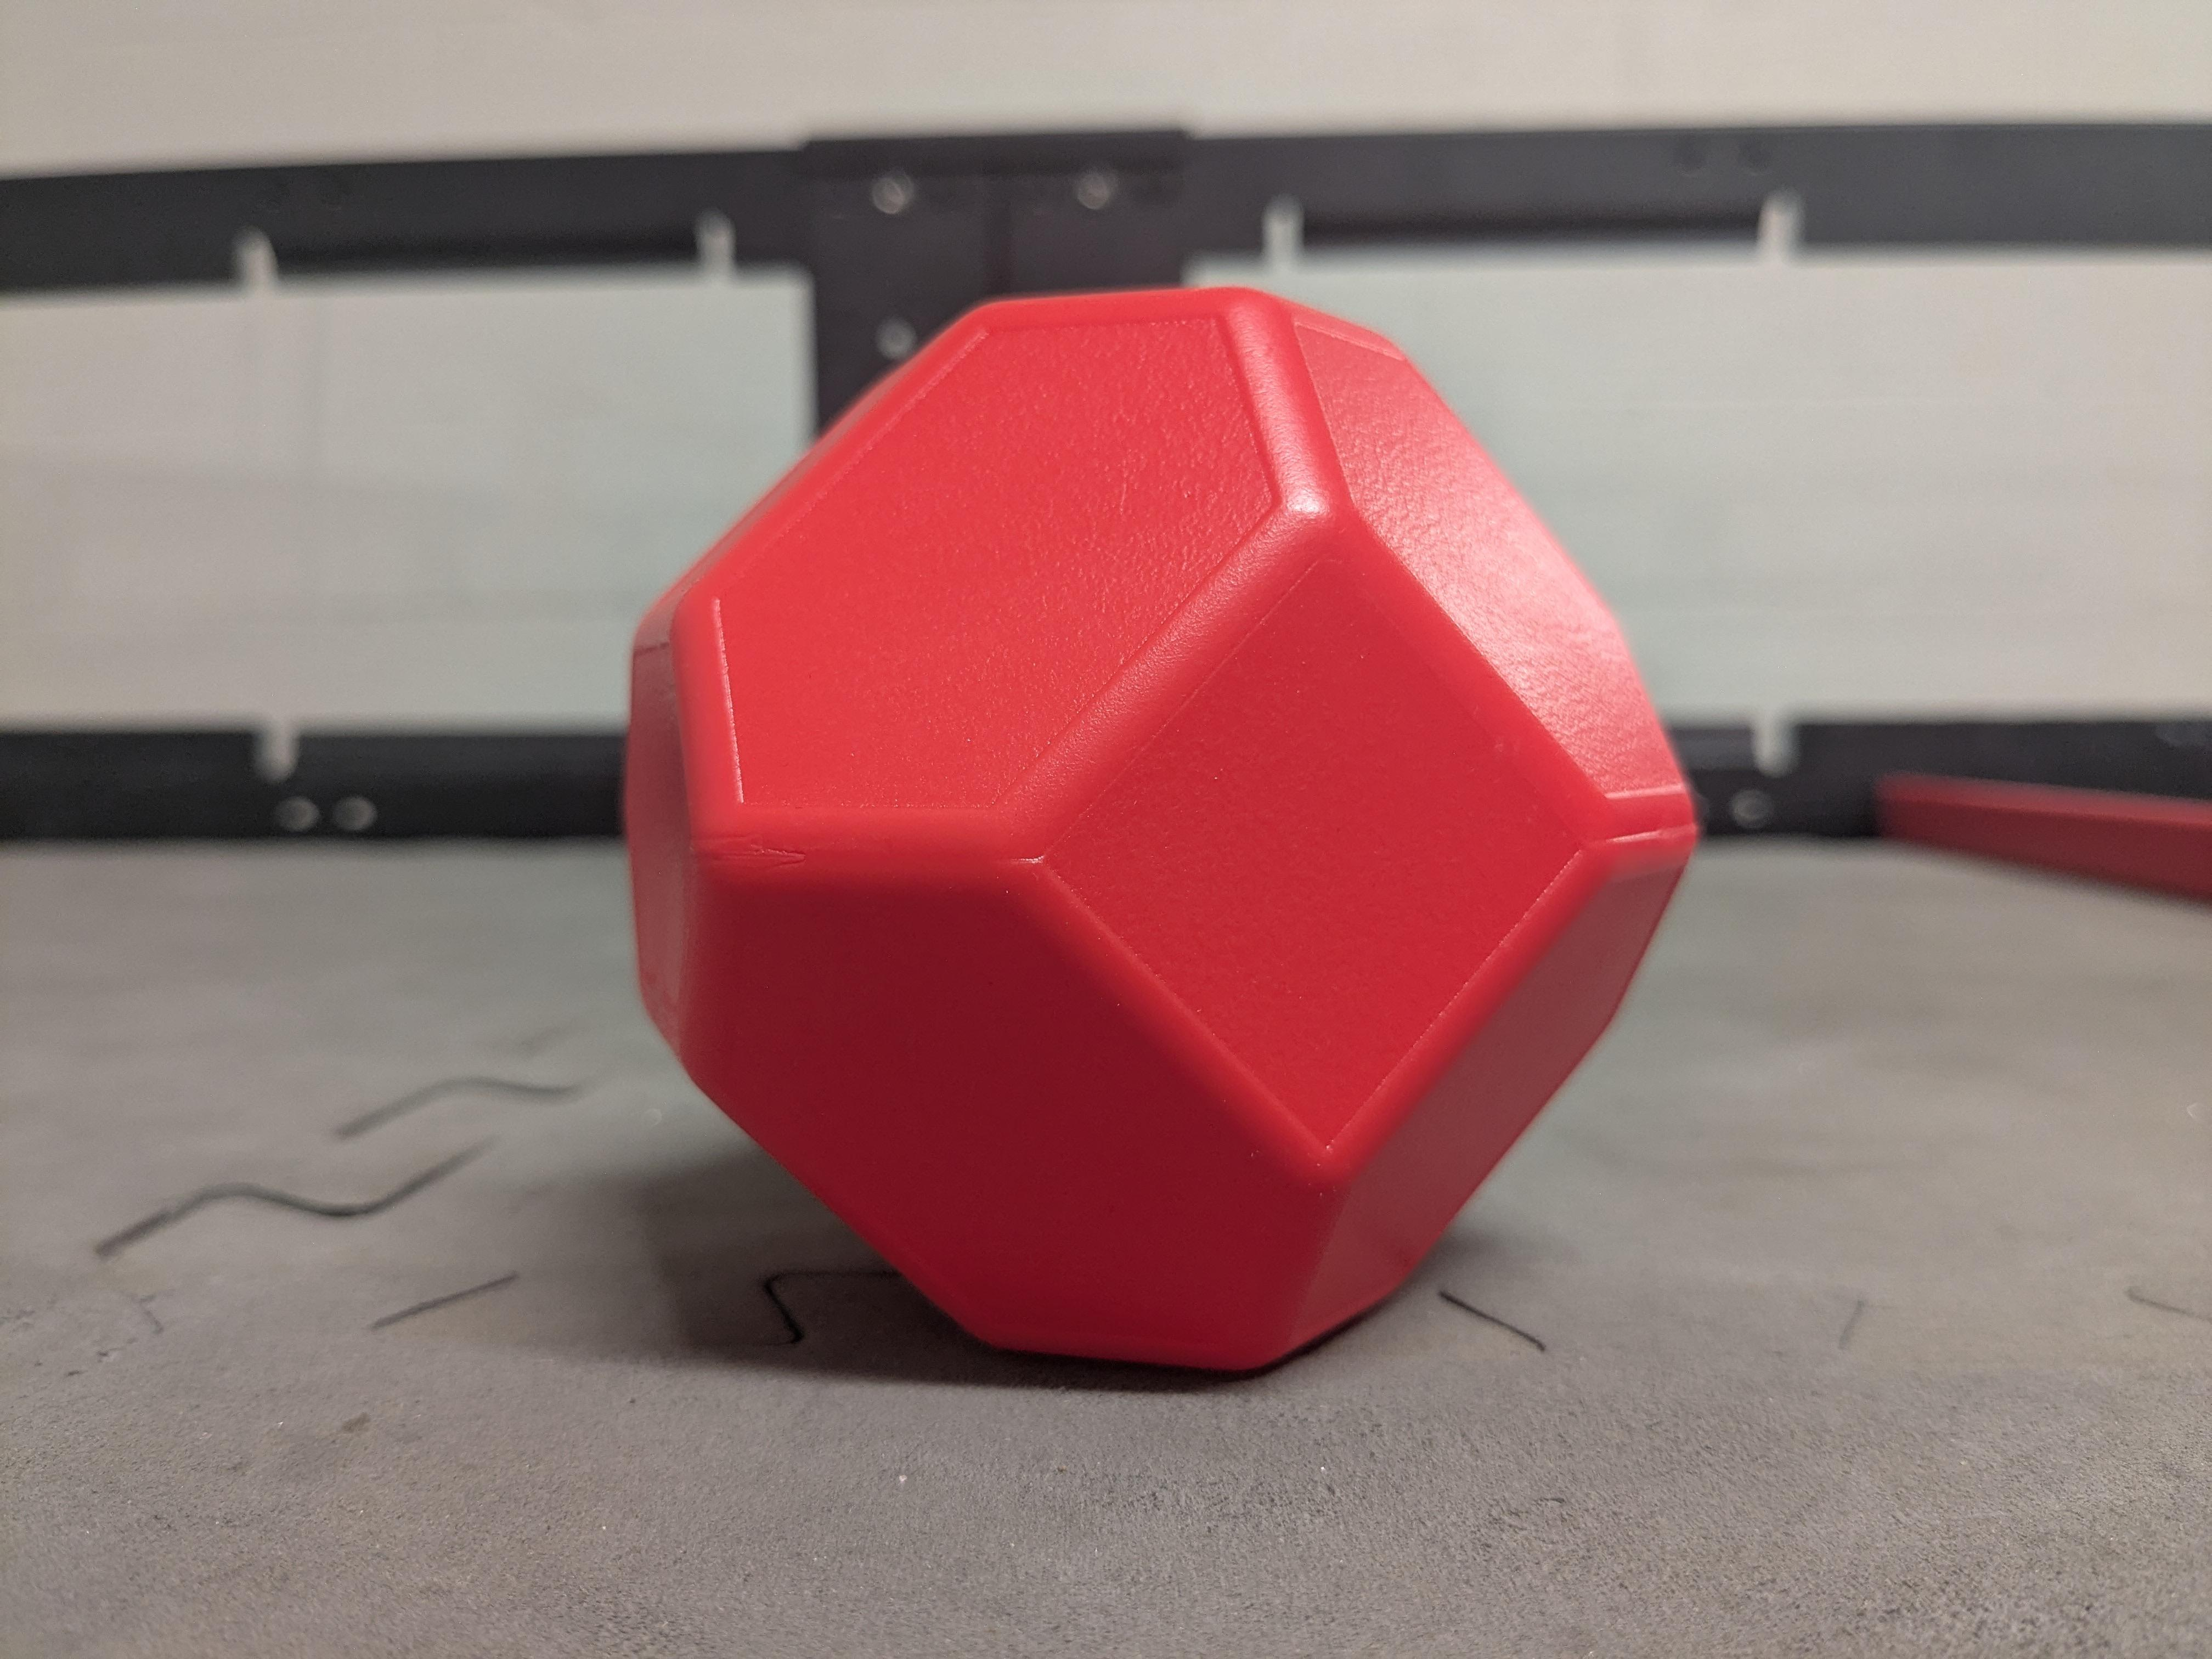Vex-Pieces-RED: (627, 289, 1696, 1368)
